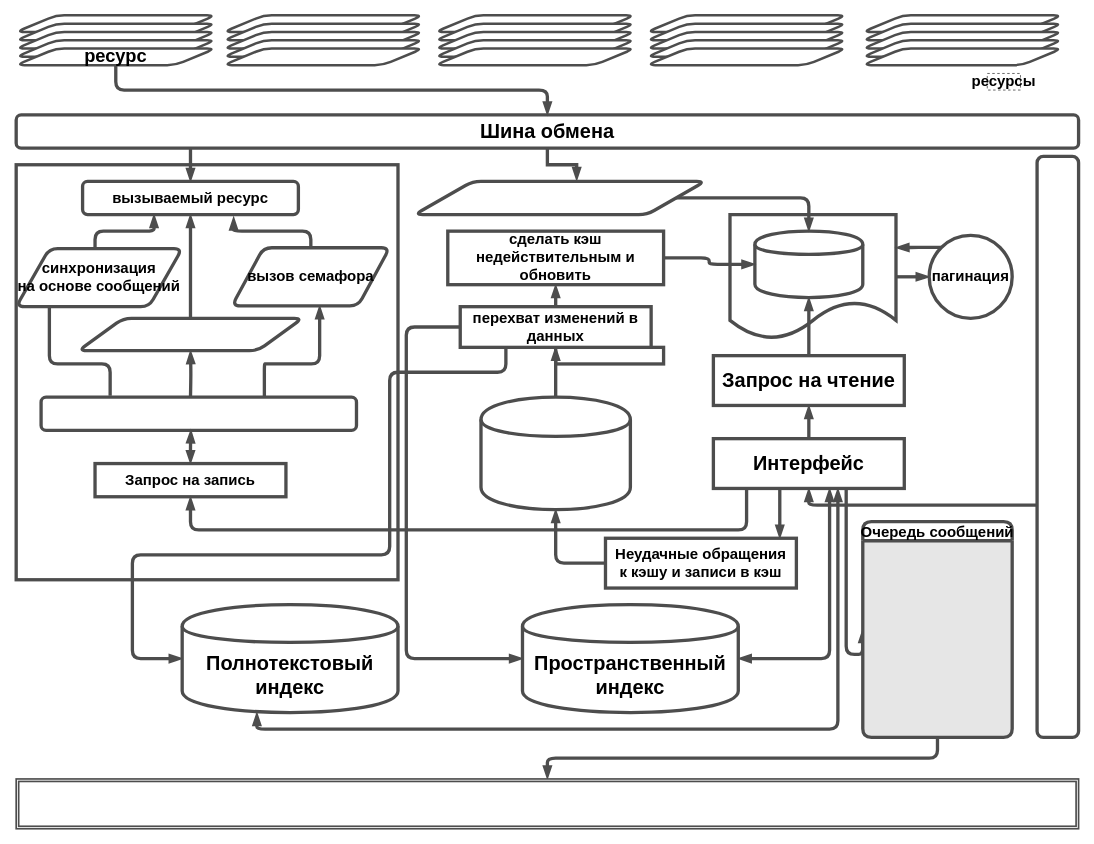
Some shapes in this 1094 by 844 pixel diagram are drawn without their labels. The centre of each missing label's shape, as x and y in pixels:
API: the point at 1057,446
Внешний мир: the point at 547,803
вызов взаимного исключения: the point at 190,334
Код приложения: the point at 609,355
кэш оперативной памяти: the point at 808,264
Основная БД: the point at 555,453
репликация в кэш вызванного ресурса: the point at 559,197
Шина динамического распределения запросов: the point at 198,413
